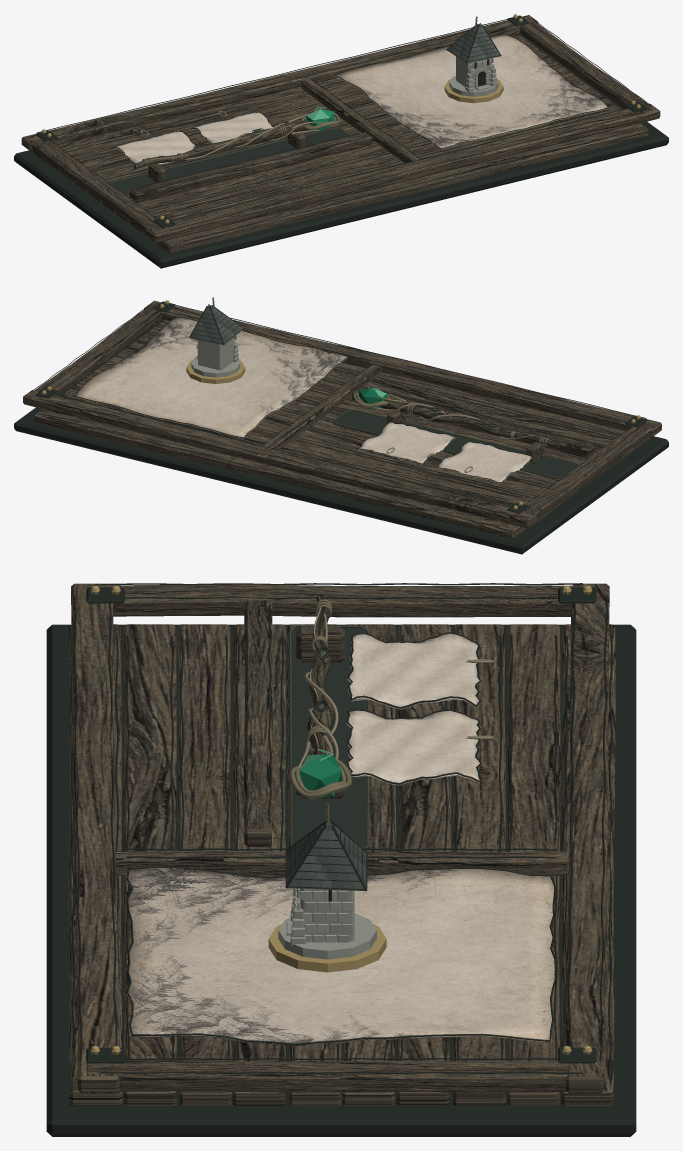
The model's file is e1_ink.glb.
3 renders of one model, top to bottom at view 1: azimuth 30°, elevation 25°; view 2: azimuth 150°, elevation 25°; view 3: azimuth 270°, elevation 25°, orthographic. The views are drawn at different scales.
Visible parts, largest first — view 1: MapPaper, Backdrop, Bottom frame, Backboard, Top frame, Backboard.002, Backboard.003, Wand shelf, Backboard.008, Left frame, Right frame, R2 lining behind existing wand (+21 smaller); view 2: MapPaper, Backdrop, Top frame, Backboard.009, Bottom frame, Backboard.007, Backboard.001, Backboard.006, Left frame, Right frame, Backboard, TagArmor (+22 smaller); view 3: MapPaper, Backdrop, Bottom frame, Top frame, Backboard.001, Backboard.008, Right frame, Backboard.002, Left frame, Backboard.007, TagArmor, TagAcquire (+32 smaller).
Boxes of the visible parts, left/top/right/bottom form: MapPaper: left=335, top=34, right=608, bottom=149; Backdrop: left=14, top=33, right=668, bottom=268; Bottom frame: left=145, top=103, right=660, bottom=242; Backboard: left=157, top=123, right=648, bottom=252; Top frame: left=21, top=15, right=537, bottom=151; Backboard.002: left=130, top=100, right=620, bottom=232; Backboard.003: left=116, top=90, right=607, bottom=222; Wand shelf: left=130, top=132, right=372, bottom=202; Backboard.008: left=47, top=40, right=539, bottom=172; Left frame: left=32, top=140, right=167, bottom=232; Right frame: left=520, top=21, right=654, bottom=112; R2 lining behind existing wand: left=111, top=129, right=349, bottom=197; MapPaper: left=75, top=317, right=348, bottom=438; Backdrop: left=14, top=319, right=668, bottom=554; Top frame: left=23, top=390, right=536, bottom=528; Backboard.009: left=34, top=409, right=525, bottom=538; Bottom frame: left=144, top=300, right=661, bottom=437; Backboard.007: left=61, top=386, right=553, bottom=518; Backboard.001: left=143, top=326, right=635, bottom=458; Backboard.006: left=75, top=376, right=566, bottom=508; Left frame: left=524, top=422, right=654, bottom=519; Right frame: left=34, top=302, right=161, bottom=398; Backboard: left=157, top=320, right=649, bottom=448; TagArmor: left=358, top=422, right=456, bottom=464; MapPaper: left=127, top=868, right=554, bottom=1046; Backdrop: left=46, top=624, right=636, bottom=1136; Bottom frame: left=71, top=583, right=119, bottom=1093; Top frame: left=565, top=583, right=609, bottom=1093; Backboard.001: left=123, top=624, right=176, bottom=1105; Backboard.008: left=507, top=624, right=560, bottom=1105; Right frame: left=88, top=1059, right=594, bottom=1092; Backboard.002: left=177, top=624, right=232, bottom=1105; Left frame: left=88, top=584, right=574, bottom=617; Backboard.007: left=451, top=624, right=505, bottom=1105; TagArmor: left=346, top=710, right=480, bottom=785; TagAcquire: left=347, top=633, right=480, bottom=709.
Size of the model in its own units: 17 by 3.42 by 8.5.
26 materials, 4 textured.
